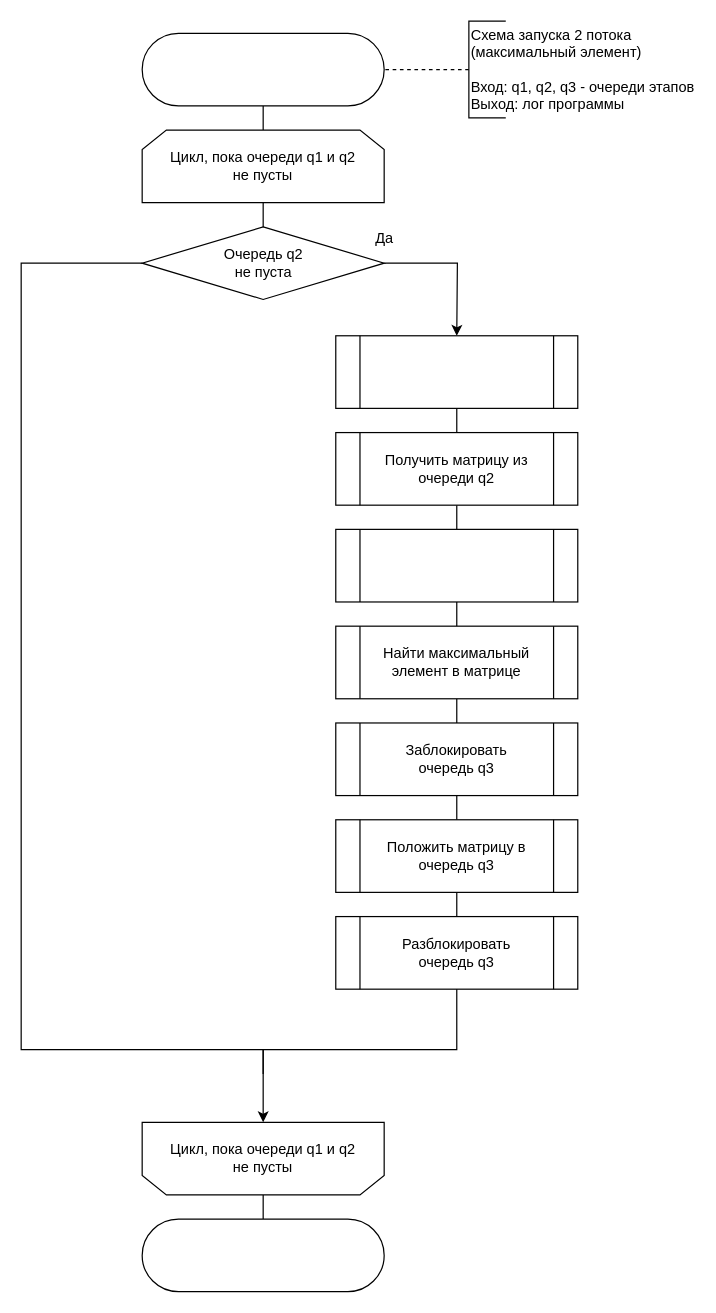
This 716x1313 diagram has some shape labels left out. Here are the shapes that lost their labels. From the top down, the box of each, then its label:
(141, 32, 384, 106): Начало
(335, 335, 578, 408): Заблокировать очередь q2
(335, 528, 578, 602): Разблокировать очередь q2
(141, 1218, 384, 1292): Конец
